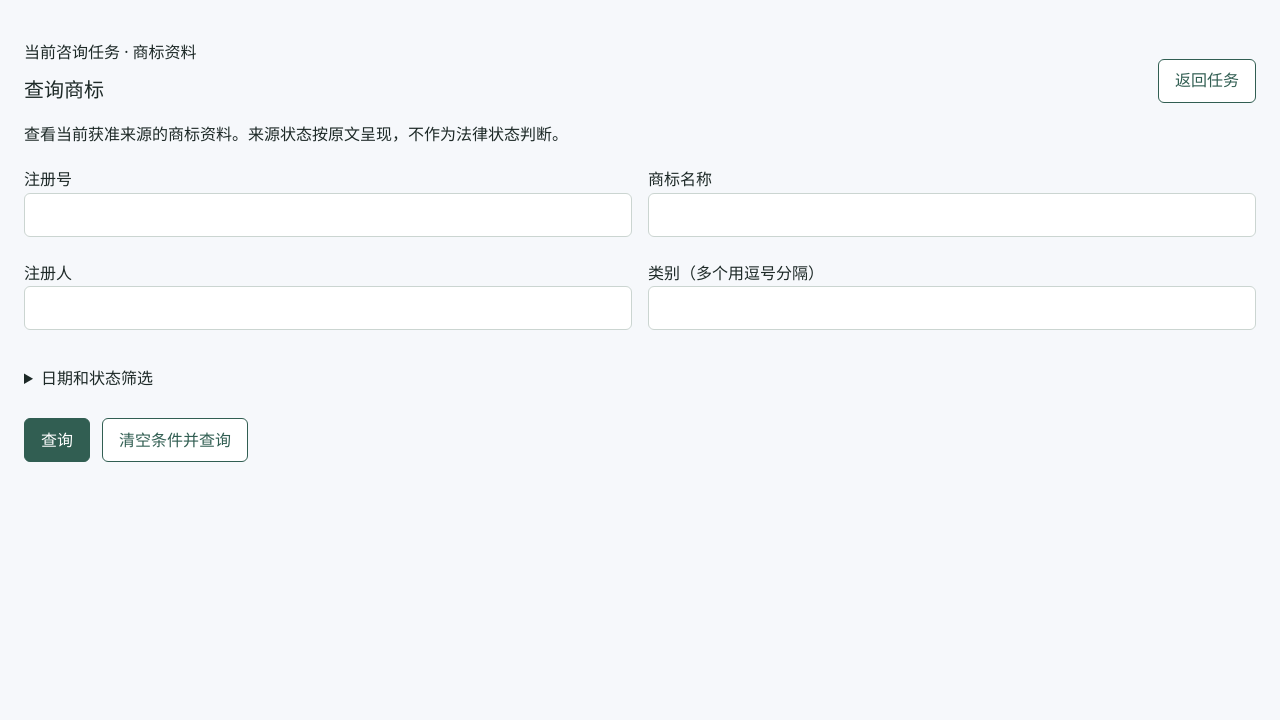
Scenario: trademark product workspace using transport with isolated HTTP responses › clears prior data on failure and never presents unavailable as zero matches
Click the button "查询": (57, 440) x1=24 y1=418 x2=90 y2=462
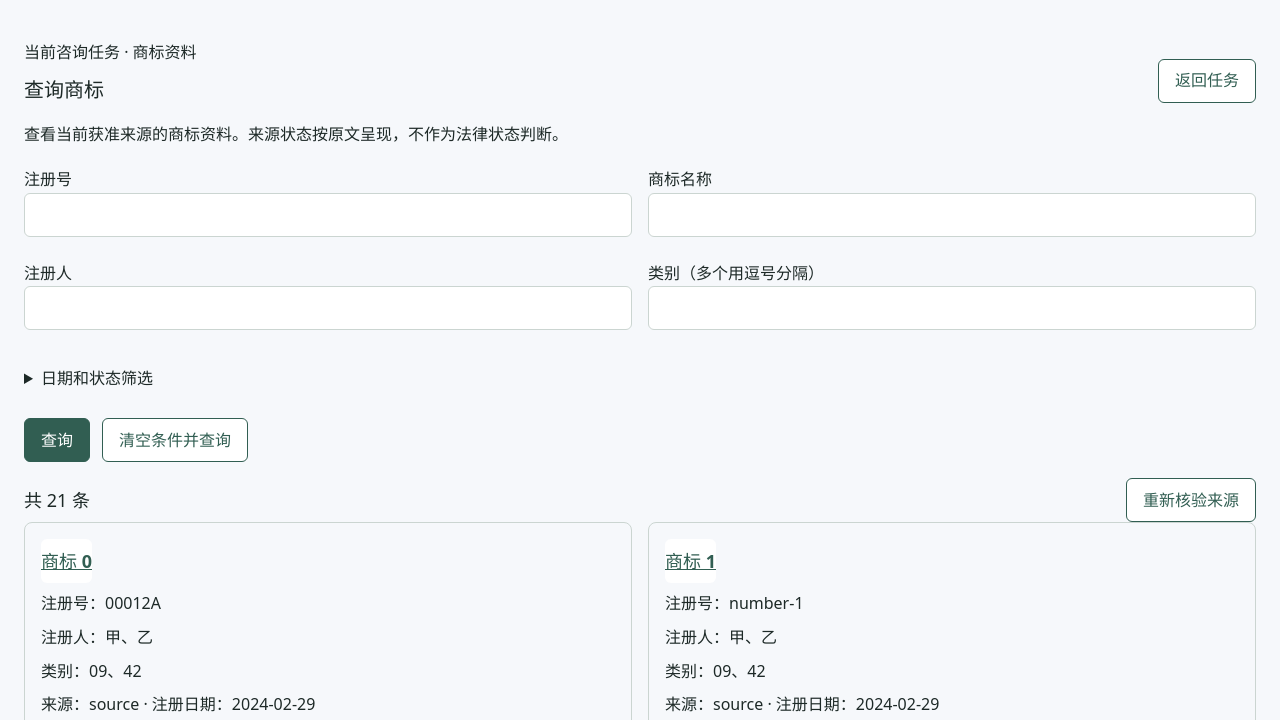
expect the heading "共 21 条" is shown: met, box x1=24 y1=486 x2=90 y2=515
Click the button "重新核验来源": (1191, 500) x1=1126 y1=478 x2=1256 y2=522
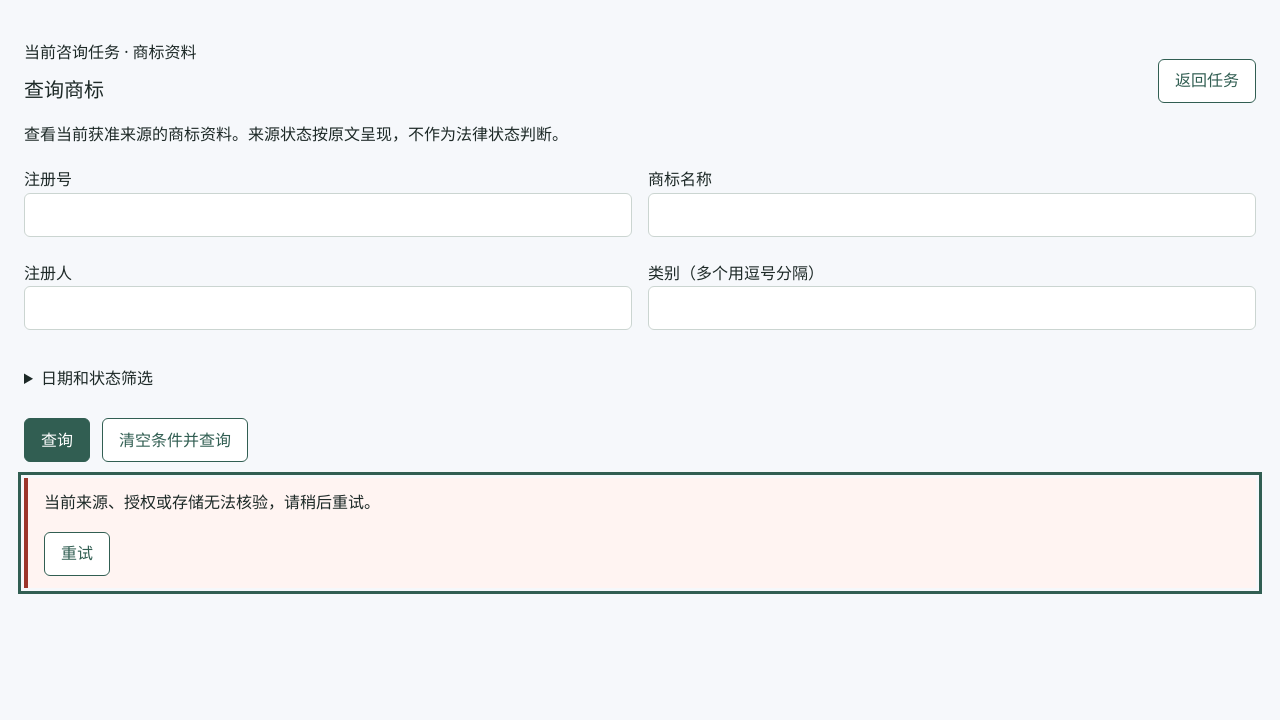
expect the message "当前来源、授权或存储无法核验，请稍后重试。 重试" is shown: met, box x1=24 y1=478 x2=1256 y2=588
expect the heading "共 21 条" is gone: met
